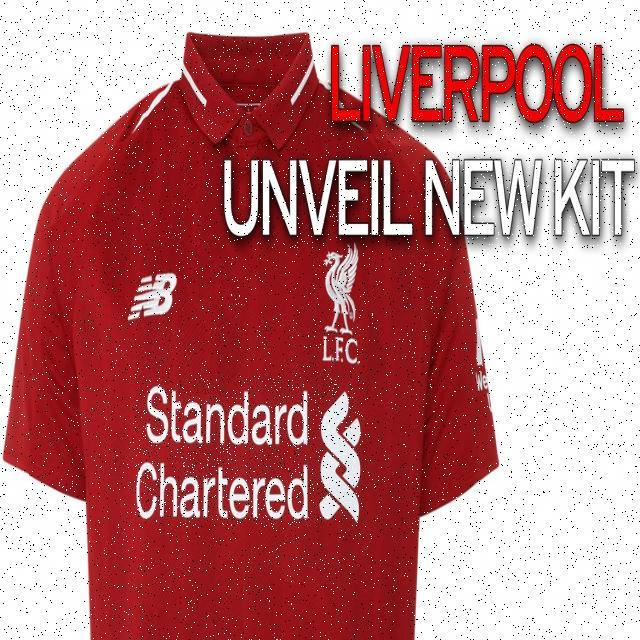Standard Chartered: (135, 376, 361, 526)
